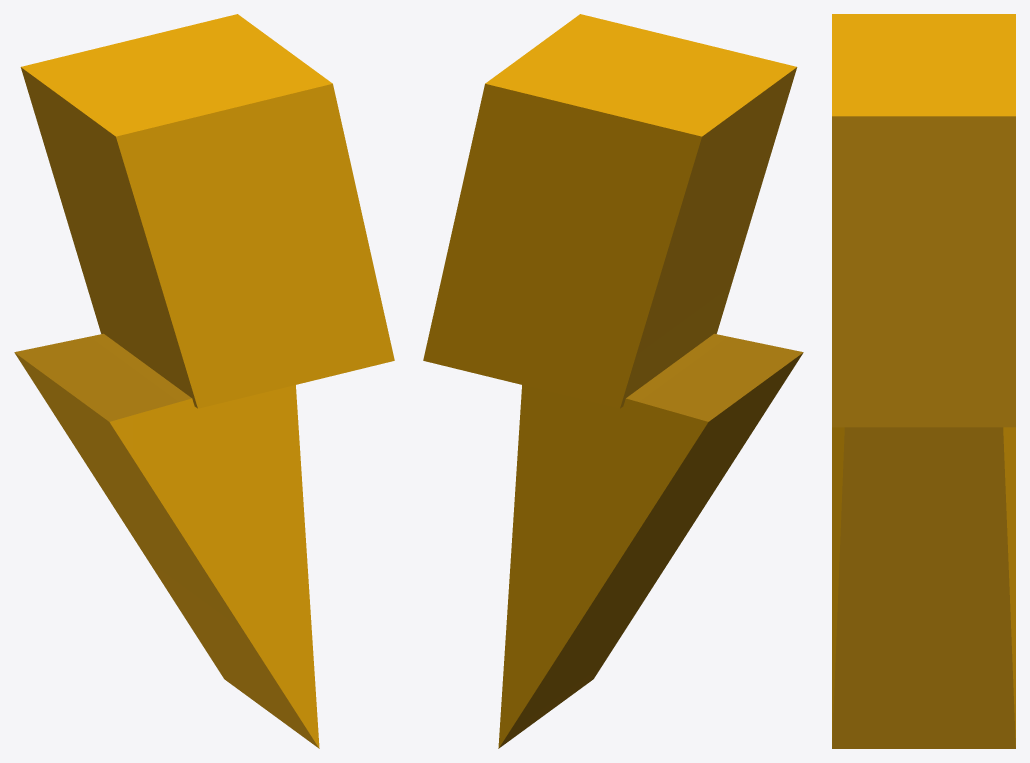
File: Lightning.fbx
3 renders of one model, left to right at view 1: azimuth 30°, elevation 25°; view 2: azimuth 150°, elevation 25°; view 3: azimuth 270°, elevation 25°, orthographic. The views are drawn at different scales.
Parts seen in each view (by area): view 1: Lightning; view 2: Lightning; view 3: Lightning.
Boxes of the visible parts, x1=… form: Lightning: x1=14, y1=14, x2=394, y2=748; Lightning: x1=423, y1=14, x2=803, y2=748; Lightning: x1=832, y1=14, x2=1015, y2=748.
Bounding box in the file's own units: 30.85 × 68.37 × 17.83.
1 material, 1 textured.
